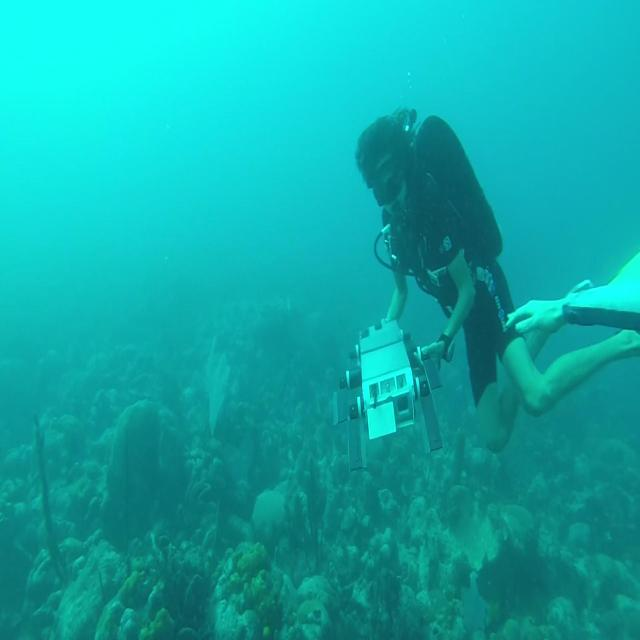human: (354, 105, 639, 454)
